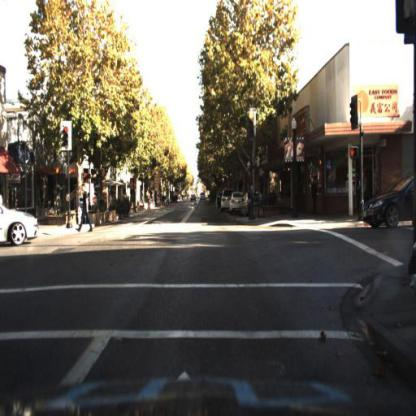car: (363, 166, 416, 236), (361, 174, 415, 232), (1, 203, 40, 248), (241, 190, 267, 220), (230, 193, 245, 219), (229, 193, 245, 213), (221, 190, 229, 213), (189, 192, 198, 207), (199, 190, 208, 204)
pedestrian: (76, 182, 96, 236), (310, 173, 319, 215), (311, 174, 319, 216)
trafficLight-Red: (62, 124, 72, 156), (62, 121, 72, 152), (248, 110, 255, 141)
